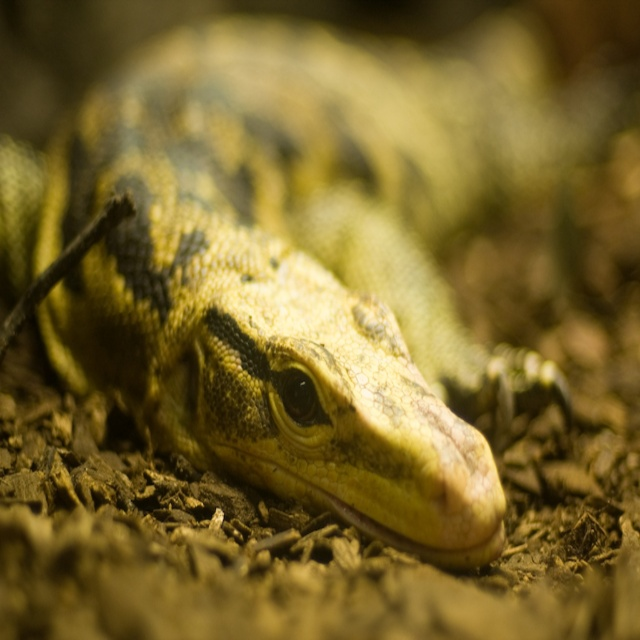Lizard: (0, 102, 574, 604)
